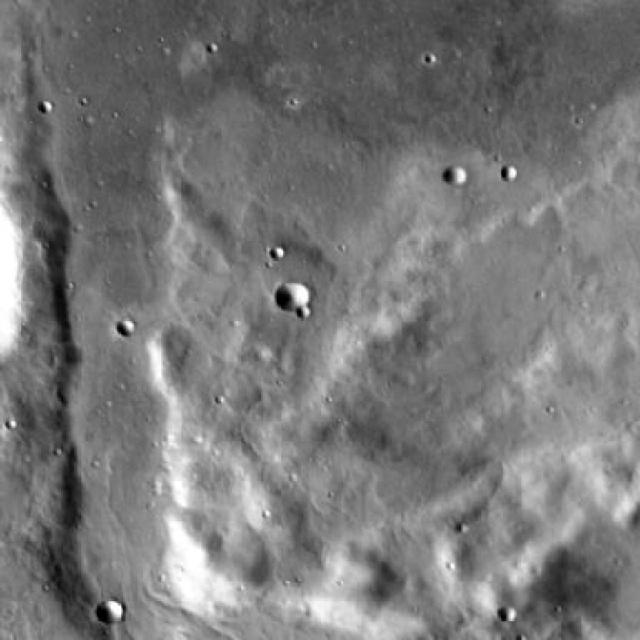crater: (276, 283, 310, 314), (98, 601, 125, 625), (445, 167, 466, 185), (116, 318, 135, 336), (500, 166, 518, 183), (499, 606, 518, 622), (36, 99, 52, 113)
